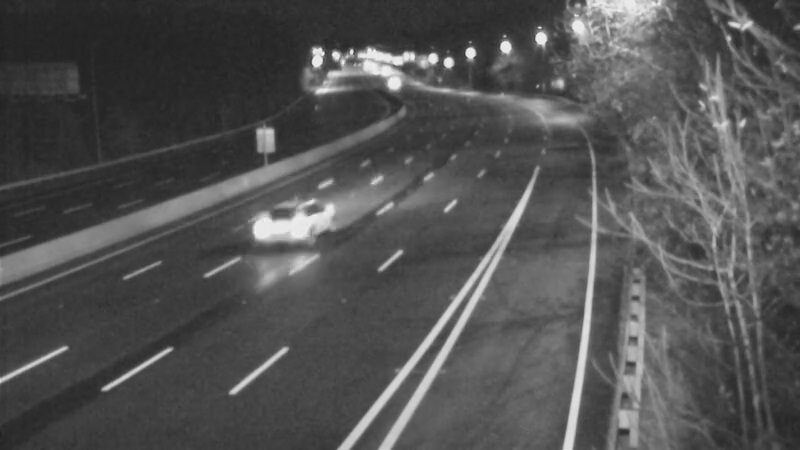vehicle: (210, 187, 290, 267), (364, 58, 414, 108)
